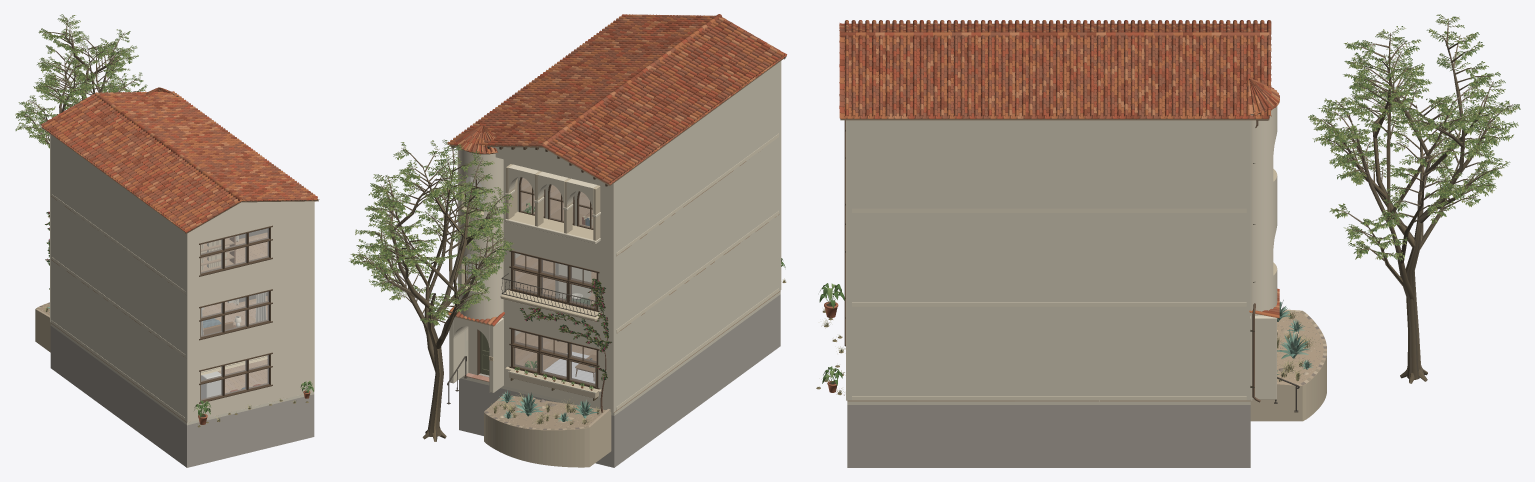
File: terrace.glb
3 views of the same model, side by side, from view 1: azimuth 30°, elevation 25°; view 2: azimuth 150°, elevation 25°; view 3: azimuth 270°, elevation 25° (orthographic). The views are drawn at different scales.
Visible parts, largest first — view 1: foundation - cast-stone@b9b2a7, ground-storey - lime-plaster@e3dbc6, bedroom-storey - lime-plaster@e3dbc6, workroom-storey - lime-plaster@e3dbc6, terrace-roof - fired-clay@b36d47, terrace-roof - fired-clay@a25f45, bedroom-storey - painted-stucco@eadfc8, workroom-storey - painted-stucco@eadfc8, ground-storey - painted-stucco@eadfc8, terrace-roof - fired-clay@975e46, terrace-roof - fired-clay@ab593e, terrace-roof - fired-clay@914f37 (+26 smaller); view 2: ground-storey - lime-plaster@e3dbc6, bedroom-storey - lime-plaster@e3dbc6, workroom-storey - lime-plaster@e3dbc6, foundation - cast-stone@b9b2a7, terrace-roof - fired-clay@b36d47, terrace-roof - fired-clay@a25f45, terrace-roof - fired-clay@975e46, frontage-broadleaf - street-tree-bark@665a47, terrace-roof - fired-clay@ab593e, front-dry-garden - float-finish-stucco@d5c6aa, ground-storey - painted-stucco@eadfc8, rounded-stair-bay - painted-stucco@eadfc8 (+36 smaller); view 3: ground-storey - lime-plaster@e3dbc6, bedroom-storey - lime-plaster@e3dbc6, workroom-storey - lime-plaster@e3dbc6, foundation - cast-stone@b9b2a7, terrace-roof - fired-clay@b36d47, terrace-roof - fired-clay@a25f45, terrace-roof - fired-clay@975e46, terrace-roof - fired-clay@ab593e, frontage-broadleaf - street-tree-bark@665a47, terrace-roof - fired-clay@914f37, rounded-stair-bay - painted-stucco@eadfc8, terrace-roof - fired-clay@be805b (+16 smaller).
Boxes of the visible parts, bbox=[...] form: foundation - cast-stone@b9b2a7: bbox=[50, 326, 314, 467]; ground-storey - lime-plaster@e3dbc6: bbox=[50, 262, 314, 425]; bedroom-storey - lime-plaster@e3dbc6: bbox=[50, 196, 267, 361]; workroom-storey - lime-plaster@e3dbc6: bbox=[50, 135, 267, 296]; terrace-roof - fired-clay@b36d47: bbox=[43, 91, 319, 230]; terrace-roof - fired-clay@a25f45: bbox=[41, 92, 307, 229]; bedroom-storey - painted-stucco@eadfc8: bbox=[50, 195, 314, 358]; workroom-storey - painted-stucco@eadfc8: bbox=[50, 134, 314, 295]; ground-storey - painted-stucco@eadfc8: bbox=[50, 259, 314, 422]; terrace-roof - fired-clay@975e46: bbox=[41, 92, 312, 228]; terrace-roof - fired-clay@ab593e: bbox=[57, 91, 317, 232]; terrace-roof - fired-clay@914f37: bbox=[46, 93, 310, 222]; ground-storey - lime-plaster@e3dbc6: bbox=[461, 213, 780, 415]; bedroom-storey - lime-plaster@e3dbc6: bbox=[470, 136, 780, 335]; workroom-storey - lime-plaster@e3dbc6: bbox=[470, 61, 780, 260]; foundation - cast-stone@b9b2a7: bbox=[459, 294, 780, 467]; terrace-roof - fired-clay@b36d47: bbox=[447, 14, 784, 182]; terrace-roof - fired-clay@a25f45: bbox=[464, 14, 781, 184]; terrace-roof - fired-clay@975e46: bbox=[467, 14, 782, 184]; frontage-broadleaf - street-tree-bark@665a47: bbox=[357, 143, 509, 440]; terrace-roof - fired-clay@ab593e: bbox=[454, 14, 786, 172]; front-dry-garden - float-finish-stucco@d5c6aa: bbox=[484, 409, 611, 467]; ground-storey - painted-stucco@eadfc8: bbox=[464, 213, 781, 412]; rounded-stair-bay - painted-stucco@eadfc8: bbox=[457, 147, 503, 319]; ground-storey - lime-plaster@e3dbc6: bbox=[847, 306, 1250, 404]; bedroom-storey - lime-plaster@e3dbc6: bbox=[847, 213, 1250, 311]; workroom-storey - lime-plaster@e3dbc6: bbox=[847, 120, 1250, 217]; foundation - cast-stone@b9b2a7: bbox=[847, 405, 1250, 467]; terrace-roof - fired-clay@b36d47: bbox=[839, 20, 1271, 119]; terrace-roof - fired-clay@a25f45: bbox=[839, 20, 1271, 119]; terrace-roof - fired-clay@975e46: bbox=[839, 20, 1271, 119]; terrace-roof - fired-clay@ab593e: bbox=[839, 20, 1271, 119]; frontage-broadleaf - street-tree-bark@665a47: bbox=[1313, 16, 1516, 383]; terrace-roof - fired-clay@914f37: bbox=[839, 20, 1271, 119]; rounded-stair-bay - painted-stucco@eadfc8: bbox=[1250, 106, 1277, 315]; terrace-roof - fired-clay@be805b: bbox=[839, 20, 1271, 118].
Size of the model in its own units: 8.61 by 14.51 by 22.71.
